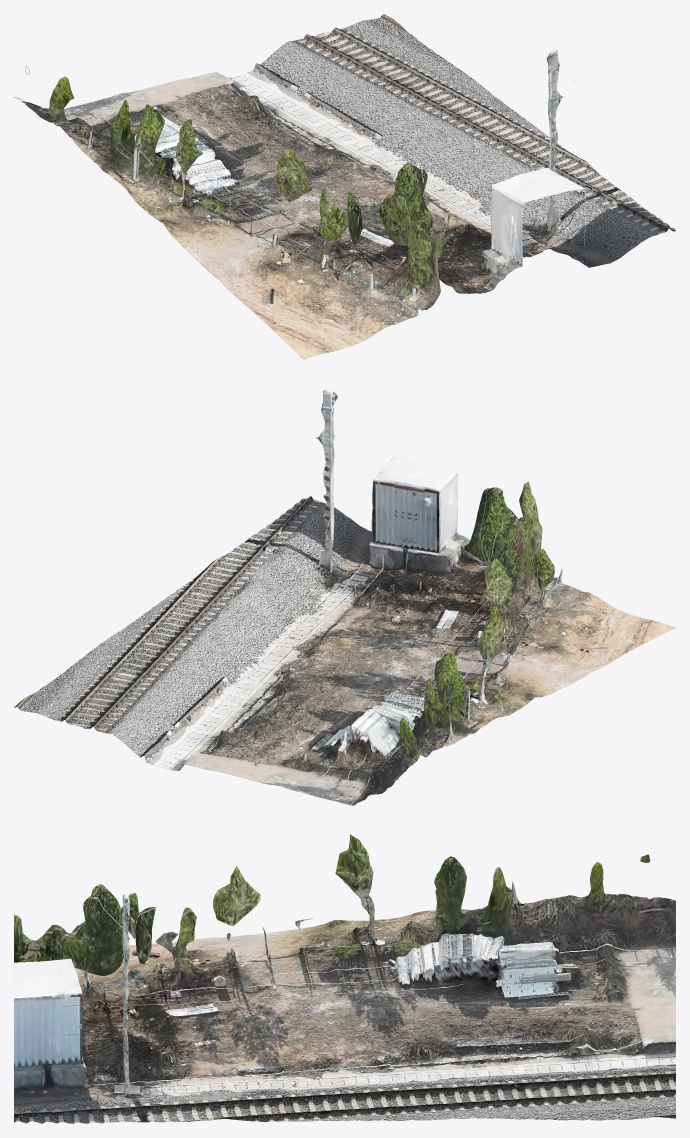
The model's file is Block_L21_645.glb.
The picture shows the model from 3 angles, top to bottom: view 1: azimuth 30°, elevation 25°; view 2: azimuth 150°, elevation 25°; view 3: azimuth 270°, elevation 25°; orthographic projection. The views are drawn at different scales.
Parts seen in each view (by area): view 1: rtc; view 2: rtc; view 3: rtc.
Part boxes in pixels (x1=…): rtc: x1=14, y1=14, x2=675, y2=359; rtc: x1=14, y1=388, x2=675, y2=805; rtc: x1=14, y1=834, x2=675, y2=1123.
Size of the model in its own units: 19.93 by 10.31 by 26.87.
Materials: 4 (4 with a texture image).
